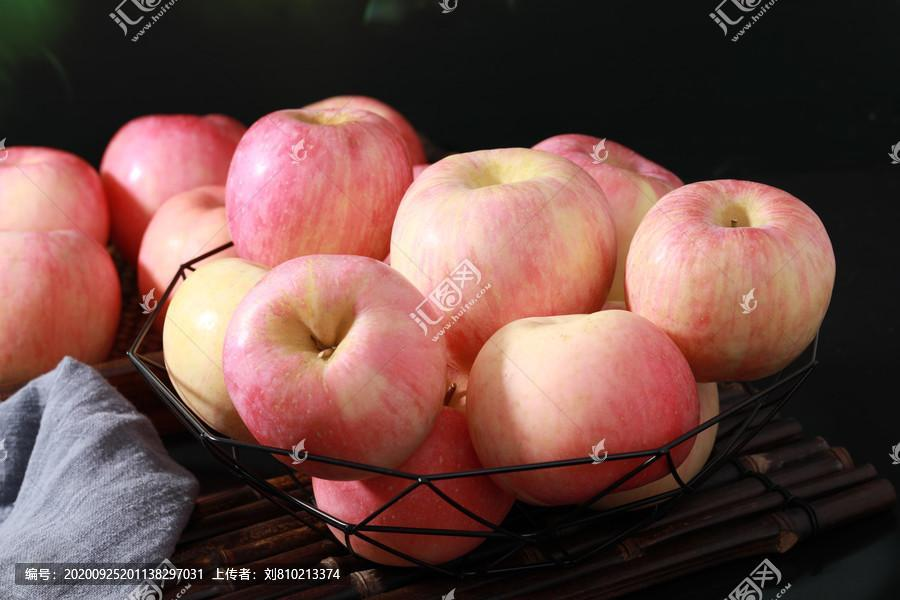apple: (221, 250, 458, 470), (467, 305, 700, 506), (389, 147, 622, 348), (624, 177, 836, 377), (224, 99, 418, 271), (307, 407, 520, 563), (533, 133, 681, 301), (1, 224, 123, 394), (161, 257, 267, 431)
